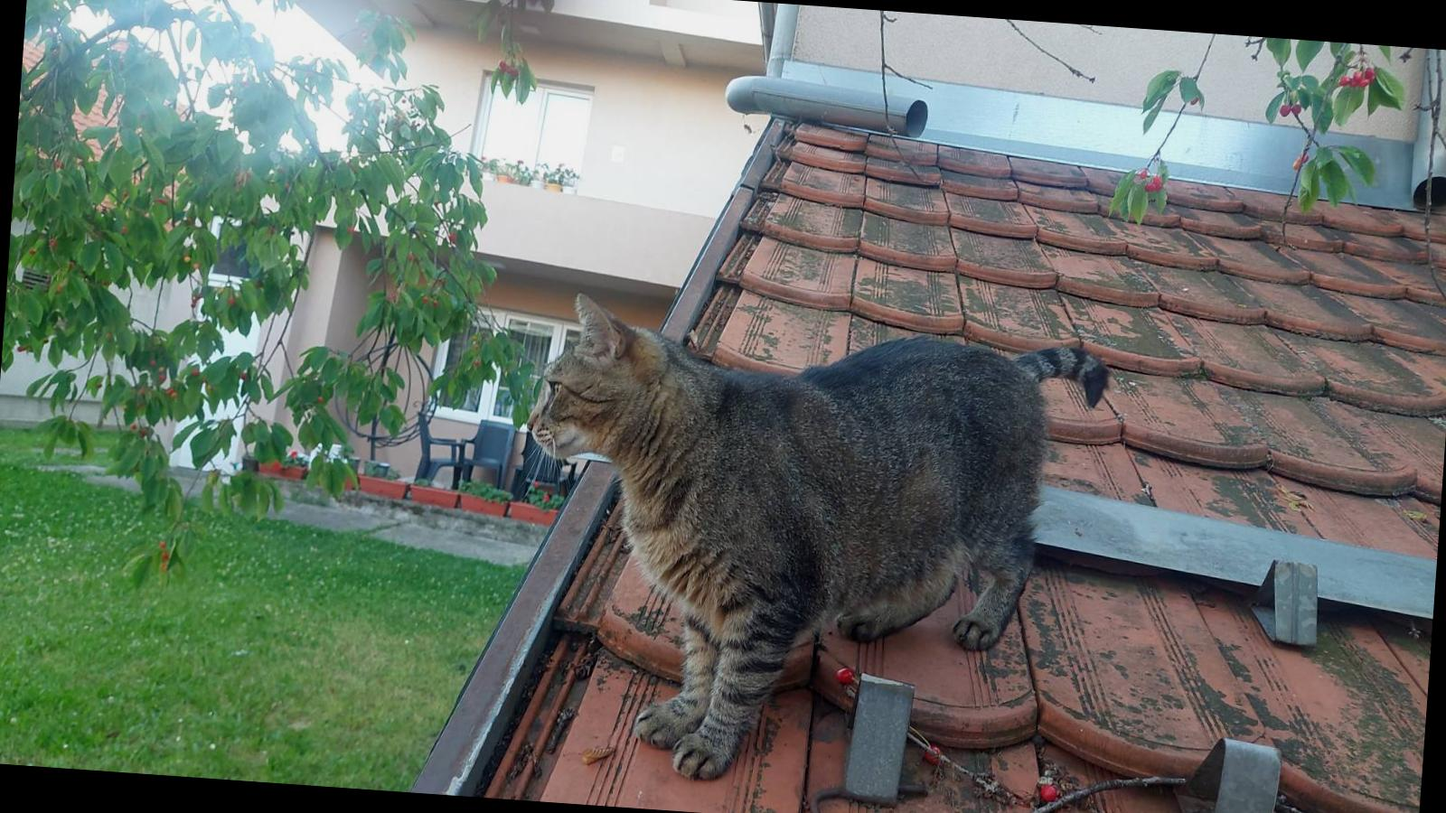macka: (507, 288, 1111, 810)
